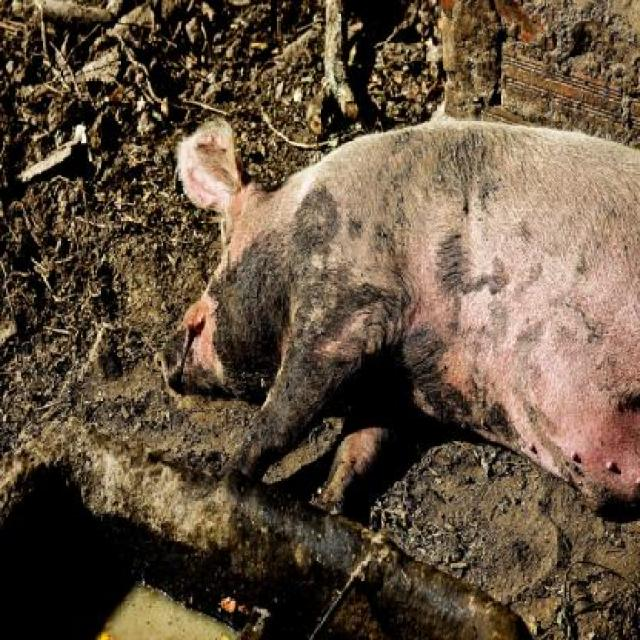pig: (154, 117, 640, 518)
